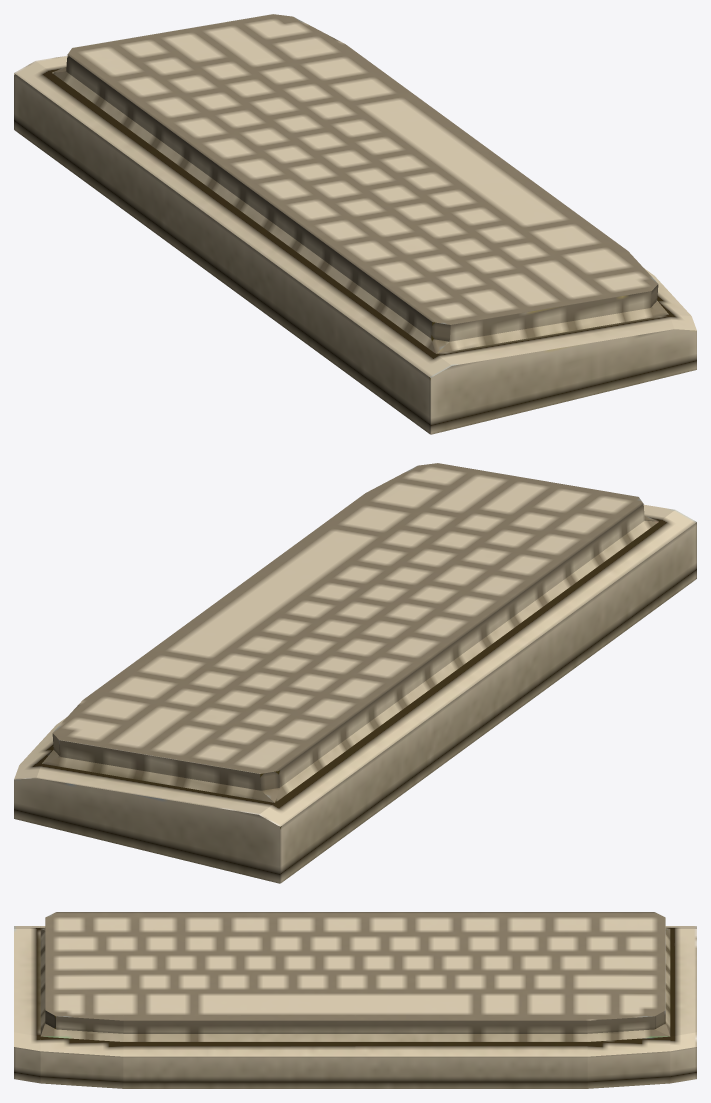
File: Keyboard.obj
3 views of the same model, one above another, from view 1: azimuth 30°, elevation 25°; view 2: azimuth 150°, elevation 25°; view 3: azimuth 270°, elevation 25° (orthographic). The views are drawn at different scales.
Parts seen in each view (by area): view 1: Keyboard; view 2: Keyboard; view 3: Keyboard.
Part boxes in pixels (<box>): Keyboard: <box>14,14,696,434</box>; Keyboard: <box>14,463,696,883</box>; Keyboard: <box>14,912,696,1088</box>.
Size of the model in its own units: 1.31 by 0.3749 by 3.25.
1 material, 1 textured.
